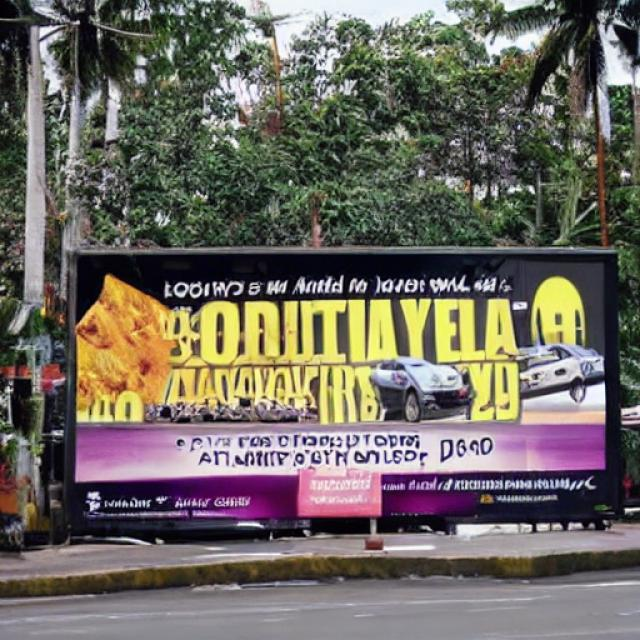Billboard: (64, 251, 626, 516)
